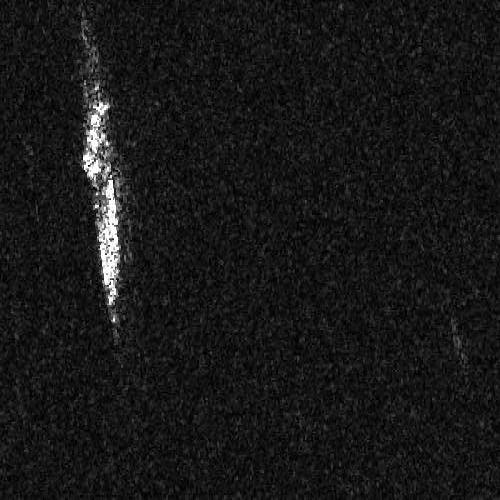ship: (82, 73, 122, 326)
